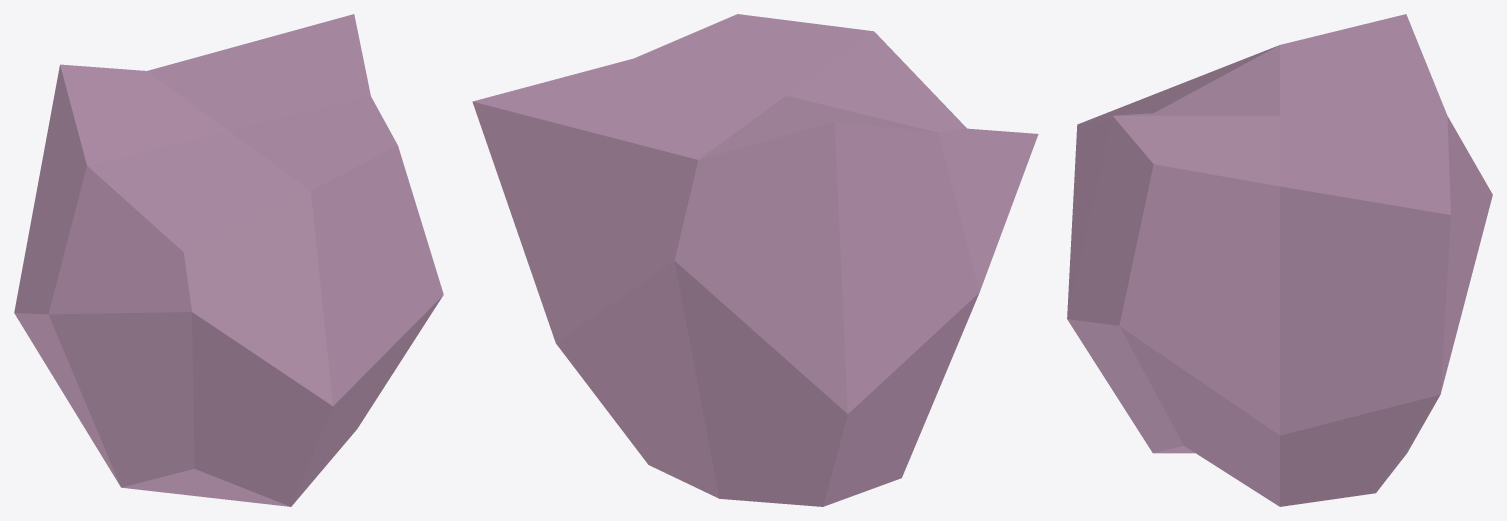
File: stone1.glb
The picture shows the model from 3 angles, left to right: view 1: azimuth 30°, elevation 25°; view 2: azimuth 150°, elevation 25°; view 3: azimuth 270°, elevation 25°; orthographic projection. The views are drawn at different scales.
Visible parts, largest first — view 1: stone1; view 2: stone1; view 3: stone1.
Part boxes in pixels (left/top/right/bottom): stone1: left=14, top=14, right=443, bottom=506; stone1: left=472, top=14, right=1038, bottom=506; stone1: left=1067, top=14, right=1492, bottom=506.
Bounding box in the file's own units: 1.37 × 1.27 × 1.27.
